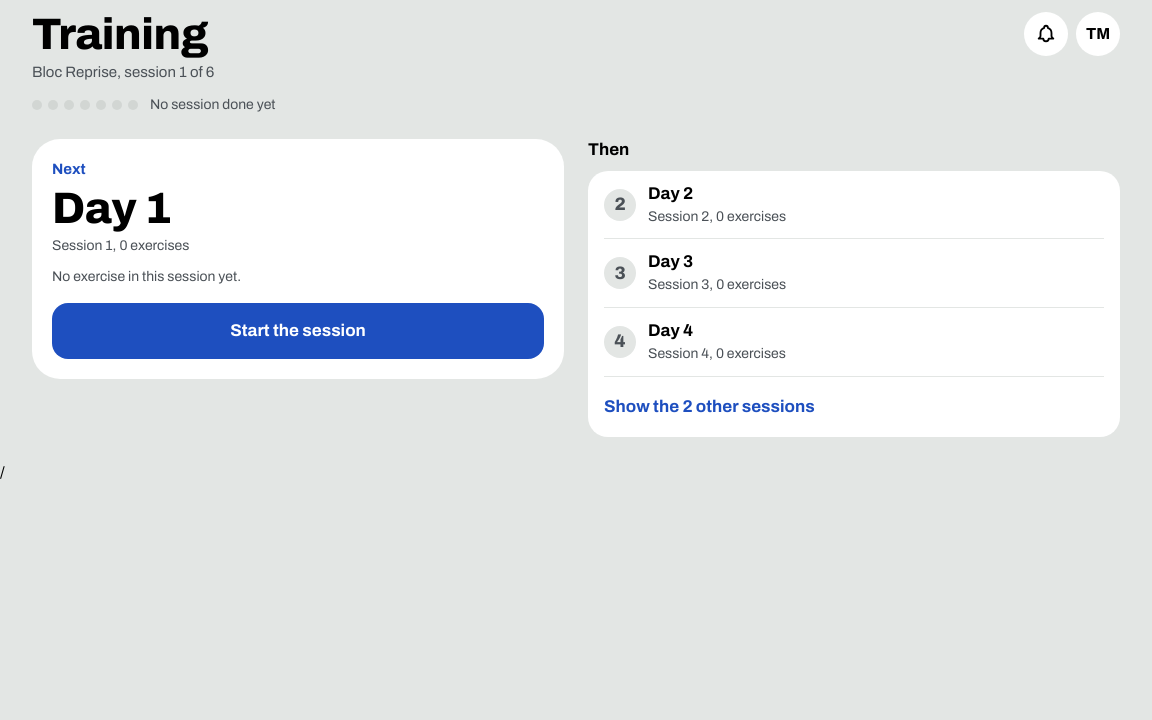
StudentTraining › the sessions after the next one › shows the first three, then the others on a tap
What coordinates should you click on to do the following:
click the button "Show the 2 other sessions"
I would click on:
 (709, 406)
Its box is [604,377,1104,437].
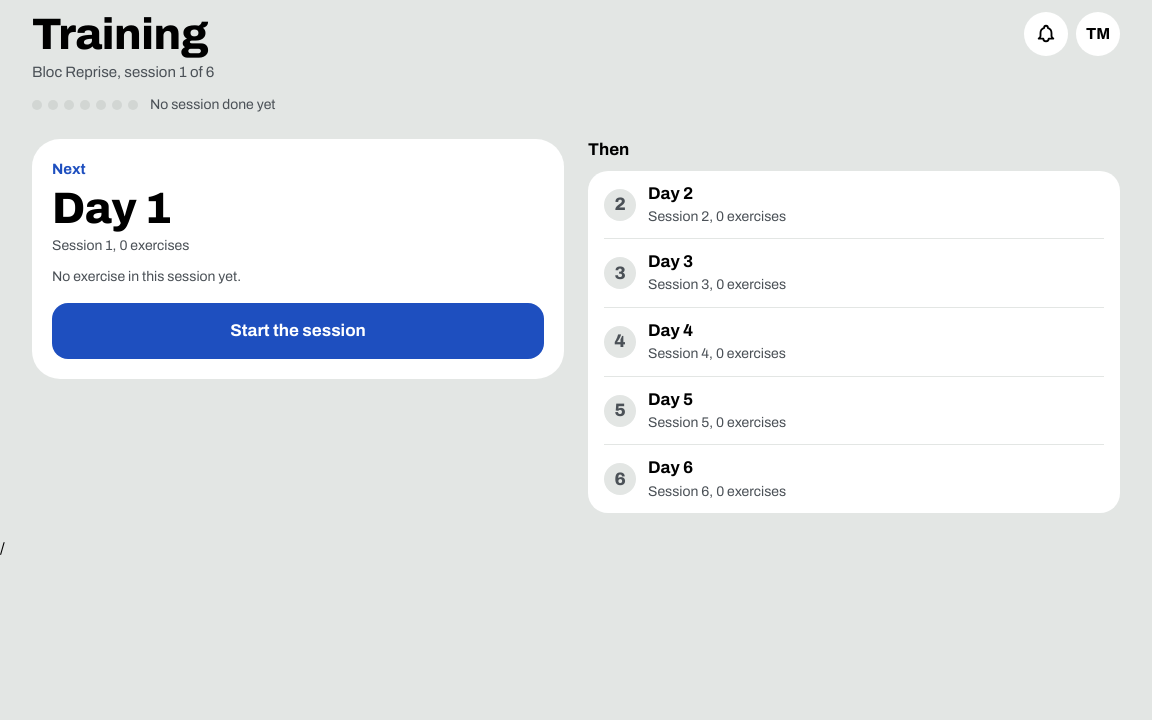
Check: the button "Show the 2 other sessions" is gone
